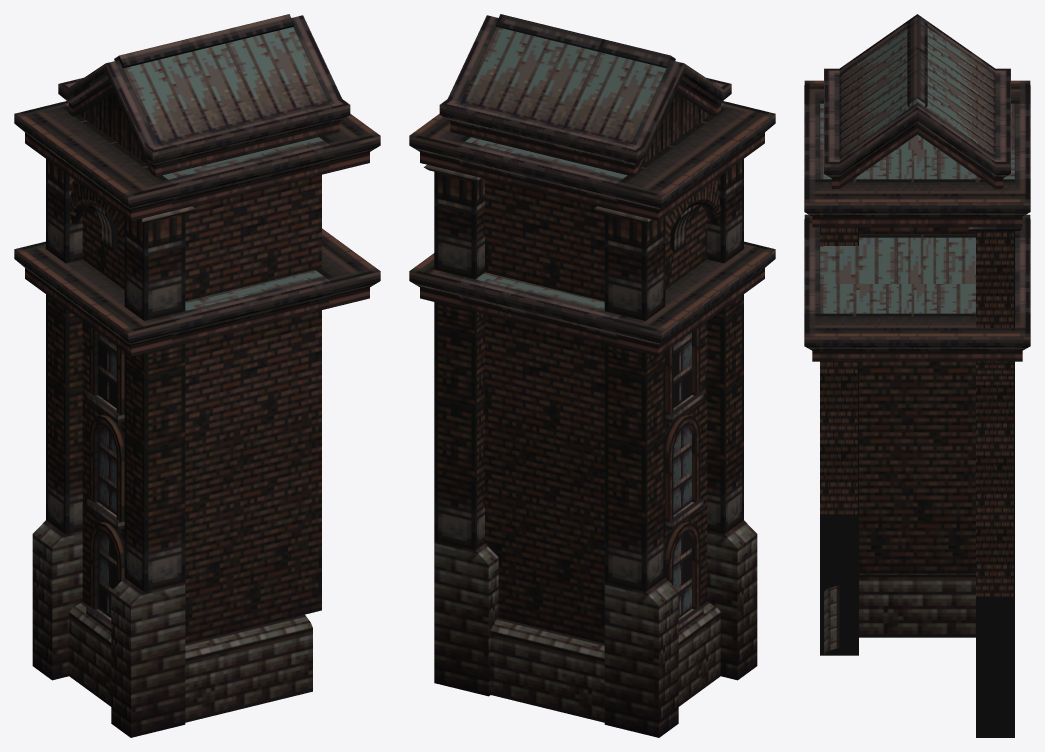
File: EnvBdgMD_Factory_C_Outdoor_Tower.FBX
3 renders of one model, left to right at view 1: azimuth 30°, elevation 25°; view 2: azimuth 150°, elevation 25°; view 3: azimuth 270°, elevation 25°, orthographic.
Parts seen in each view (by area): view 1: EnvBdgMD_Factory_C_Outdoor_Tower; view 2: EnvBdgMD_Factory_C_Outdoor_Tower; view 3: EnvBdgMD_Factory_C_Outdoor_Tower.
Part boxes in pixels (x1,y1,x2,y2): EnvBdgMD_Factory_C_Outdoor_Tower: [14, 14, 380, 737]; EnvBdgMD_Factory_C_Outdoor_Tower: [409, 14, 775, 737]; EnvBdgMD_Factory_C_Outdoor_Tower: [804, 14, 1030, 737].
Size of the model in its own units: 370 by 894 by 290.
